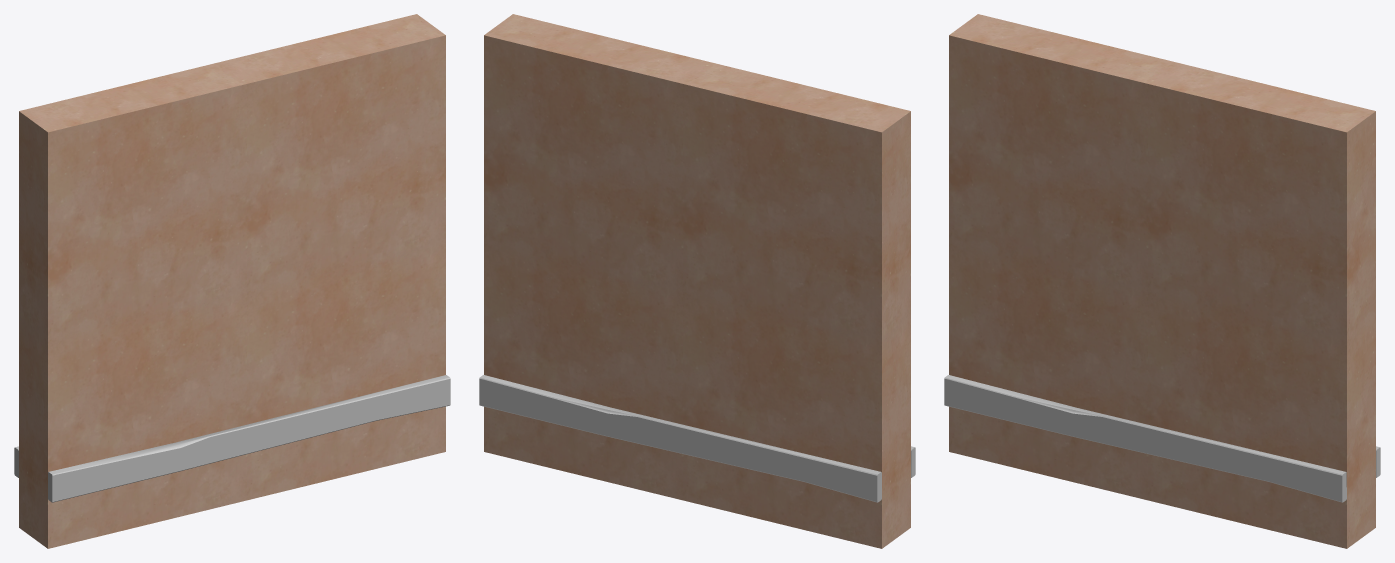
The picture shows the model from 3 angles, left to right: view 1: azimuth 30°, elevation 25°; view 2: azimuth 150°, elevation 25°; view 3: azimuth 330°, elevation 25°; orthographic projection.
Visible parts, largest first — view 1: SM_BB_T4_Wall_Large_04_LOD0; view 2: SM_BB_T4_Wall_Large_04_LOD0; view 3: SM_BB_T4_Wall_Large_04_LOD0.
Boxes of the visible parts, bbox=[...] form: SM_BB_T4_Wall_Large_04_LOD0: bbox=[14, 14, 450, 548]; SM_BB_T4_Wall_Large_04_LOD0: bbox=[479, 14, 915, 548]; SM_BB_T4_Wall_Large_04_LOD0: bbox=[944, 14, 1380, 548].
Bounding box in the file's own units: 3 × 3 × 0.4973.
